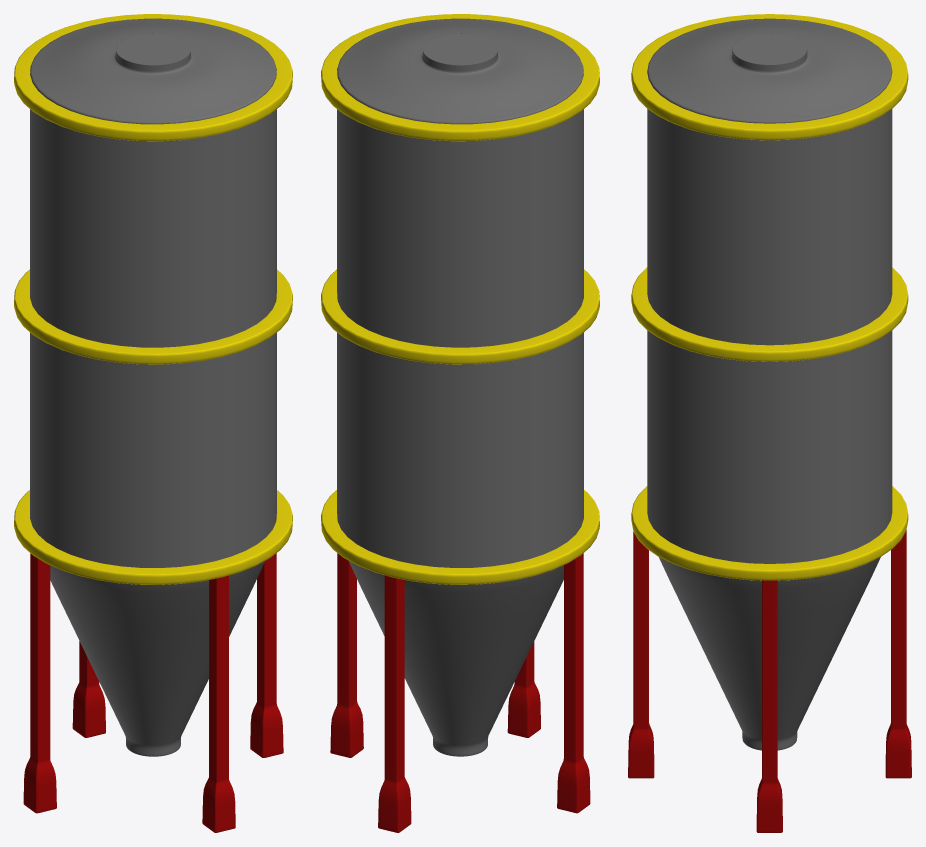
File: Env_Silo_Mo_Nov19.fbx
The picture shows the model from 3 angles, left to right: view 1: azimuth 30°, elevation 25°; view 2: azimuth 150°, elevation 25°; view 3: azimuth 270°, elevation 25°; orthographic projection.
Parts seen in each view (by area): view 1: SiloBody, SiloSupport3, SiloSupport2, SiloSupport1, SiloLeg1, SiloLeg4, SiloLeg2, SiloLeg3; view 2: SiloBody, SiloSupport3, SiloSupport2, SiloSupport1, SiloLeg3, SiloLeg1, SiloLeg2, SiloLeg4; view 3: SiloBody, SiloSupport3, SiloSupport1, SiloSupport2, SiloLeg2, SiloLeg3, SiloLeg4.
Part boxes in pixels (box(x1,y1,x2,y2)): SiloBody: box(30, 18, 276, 756); SiloSupport3: box(14, 14, 292, 141); SiloSupport2: box(14, 269, 292, 364); SiloSupport1: box(14, 490, 292, 584); SiloLeg1: box(23, 553, 56, 813); SiloLeg4: box(202, 575, 235, 832); SiloLeg2: box(250, 553, 283, 757); SiloLeg3: box(72, 641, 105, 737); SiloBody: box(337, 18, 583, 756); SiloSupport3: box(321, 14, 599, 141); SiloSupport2: box(321, 269, 599, 364); SiloSupport1: box(321, 490, 599, 584); SiloLeg3: box(378, 575, 411, 832); SiloLeg1: box(557, 553, 590, 813); SiloLeg2: box(330, 553, 363, 757); SiloLeg4: box(507, 641, 540, 737); SiloBody: box(647, 18, 892, 750); SiloSupport3: box(631, 14, 908, 140); SiloSupport1: box(631, 486, 908, 580); SiloSupport2: box(631, 267, 908, 361); SiloLeg2: box(756, 580, 782, 832); SiloLeg3: box(885, 530, 911, 778); SiloLeg4: box(628, 531, 654, 778).
Size of the model in its own units: 22.89 by 64.36 by 22.85.
